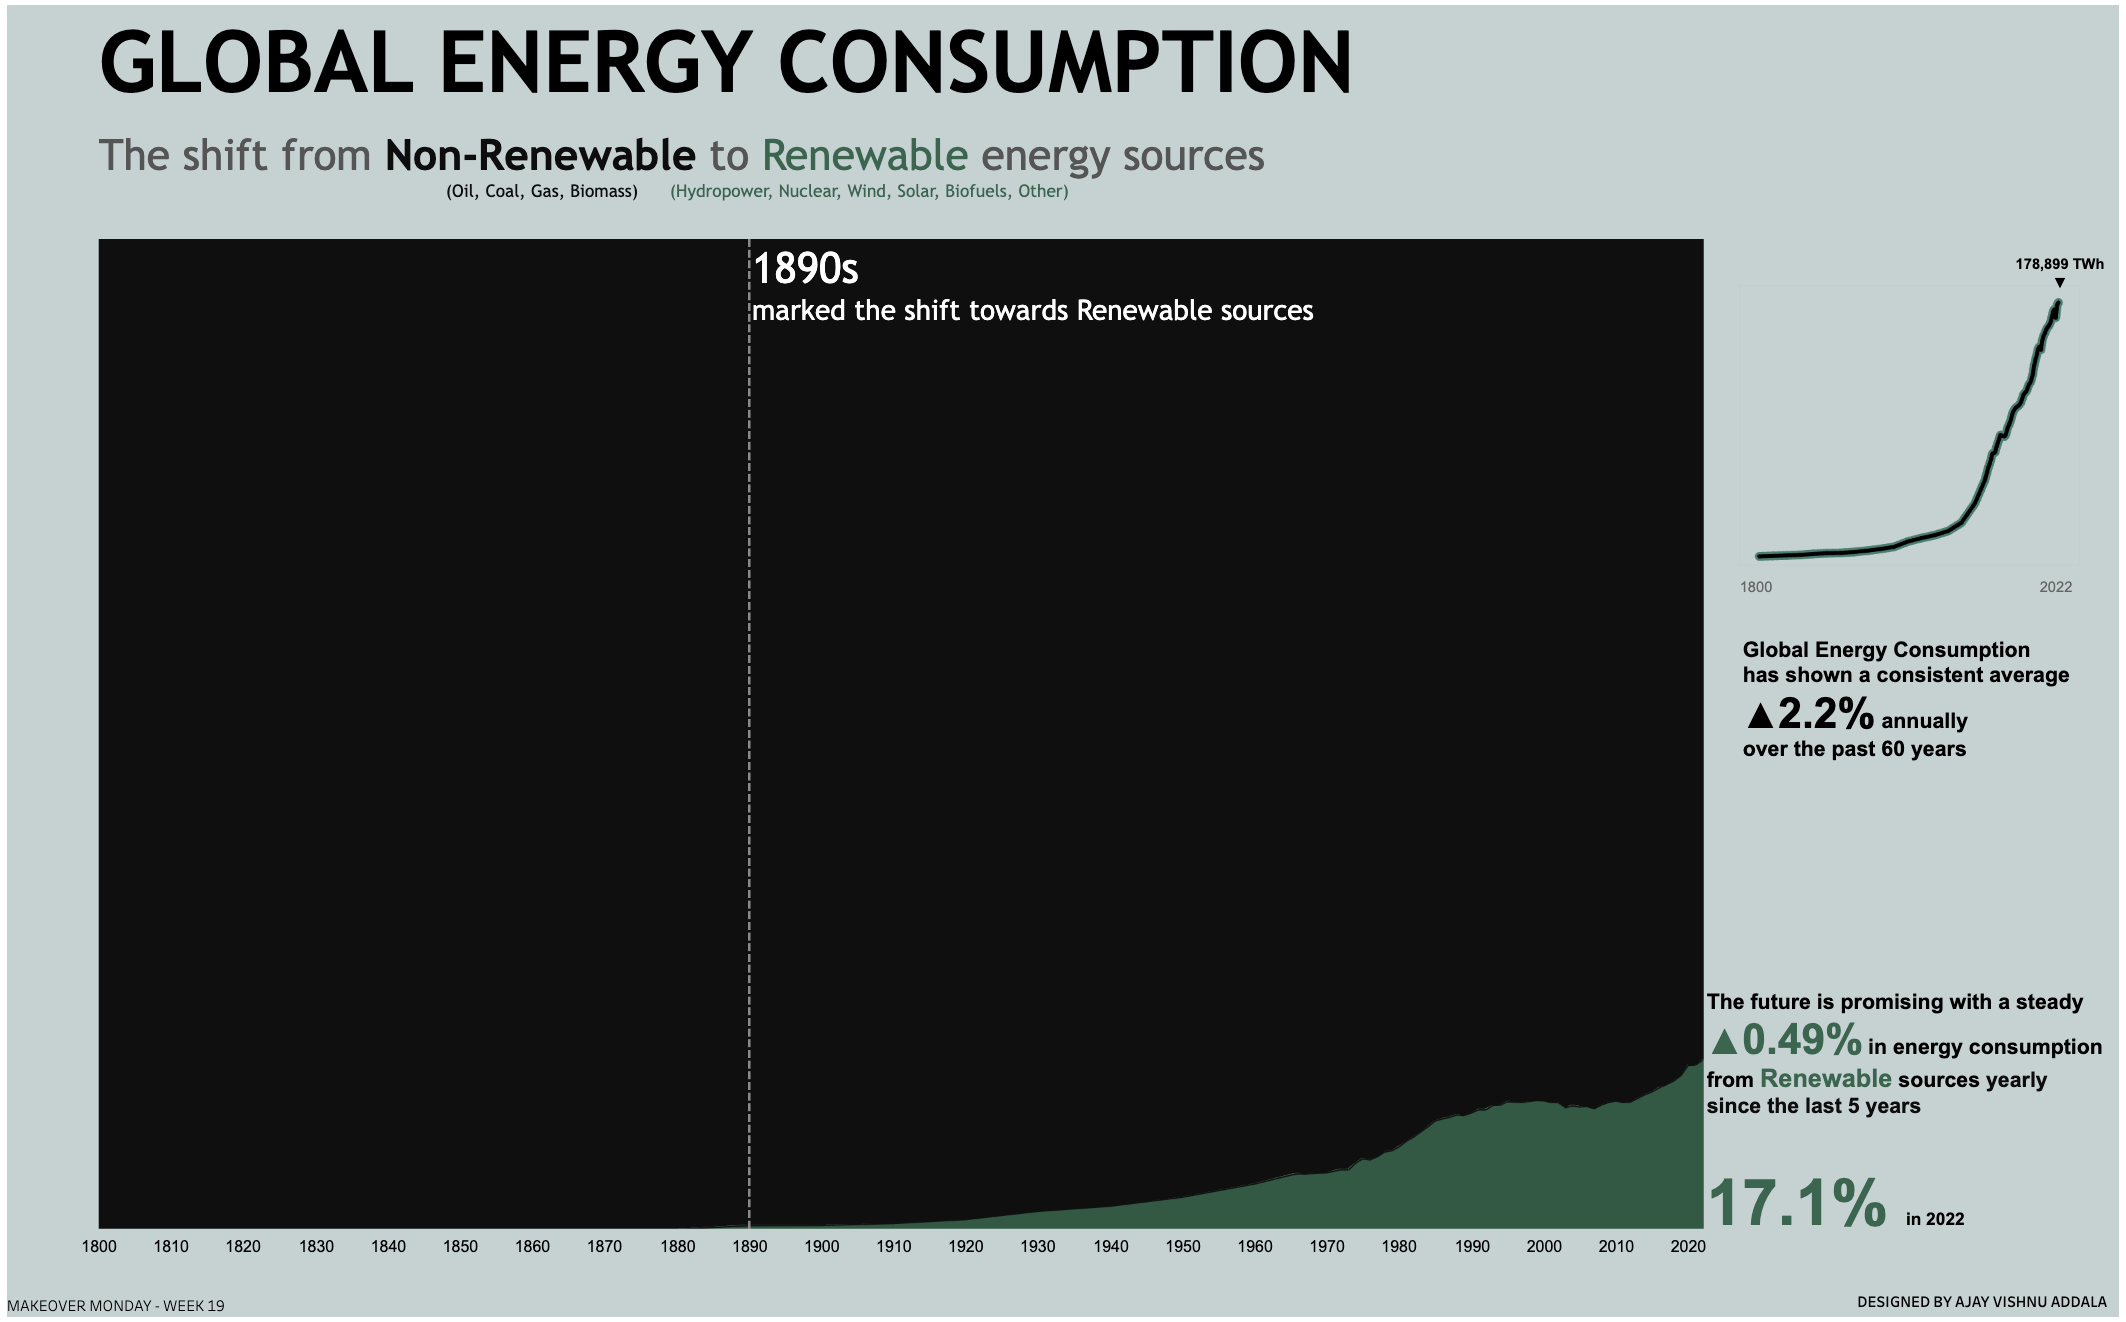

Layout of this report page (visuals, bound fields, positions):
{"tool":"tableau","page":{"name":"Global Enery Consumption","canvas":[1600,1000],"ordinal":0},"visuals":[{"type":"text","box":[73,8,1519,85]},{"type":"text","box":[73,93,1143,55]},{"type":"text","box":[314,133,191,31]},{"type":"text","box":[465,133,380,31]},{"type":"text","box":[567,170,488,96]},{"type":"worksheet","title":"Clean ","mark":"Area","cols":["Year"],"box":[8,180,1341,780]},{"type":"text","box":[1498,195,100,30]},{"type":"worksheet","title":"Overall Energy consumption","mark":"Automatic","rows":["Pivot Field Values","Pivot Field Values"],"cols":["Year"],"box":[1307,218,256,211]},{"type":"text","box":[1270,430,100,30]},{"type":"text","box":[1495,430,100,30]},{"type":"text","box":[1310,449,281,160]},{"type":"text","box":[1283,729,302,224]},{"type":"blank","box":[1304,927,39,23]},{"type":"blank","box":[13,931,39,23]},{"type":"text","box":[1396,965,194,30]},{"type":"text","box":[8,968,194,30]}]}

Visuals, with their boxes in screenshot pixels (x1, y1, x2, y2), scaled from the page's 1600x1000 canvas onto the 2126x1322 screenshot:
text: bbox=(97, 11, 2115, 123)
text: bbox=(97, 123, 1616, 196)
text: bbox=(417, 176, 671, 217)
text: bbox=(618, 176, 1123, 217)
text: bbox=(753, 225, 1402, 352)
"Clean " worksheet (Area marks): bbox=(11, 238, 1792, 1269)
text: bbox=(1990, 258, 2123, 297)
"Overall Energy consumption" worksheet: bbox=(1737, 288, 2077, 567)
text: bbox=(1688, 568, 1820, 608)
text: bbox=(1986, 568, 2119, 608)
text: bbox=(1741, 594, 2114, 805)
text: bbox=(1705, 964, 2106, 1260)
blank: bbox=(1733, 1225, 1785, 1256)
blank: bbox=(17, 1231, 69, 1261)
text: bbox=(1855, 1276, 2113, 1315)
text: bbox=(11, 1280, 268, 1319)
